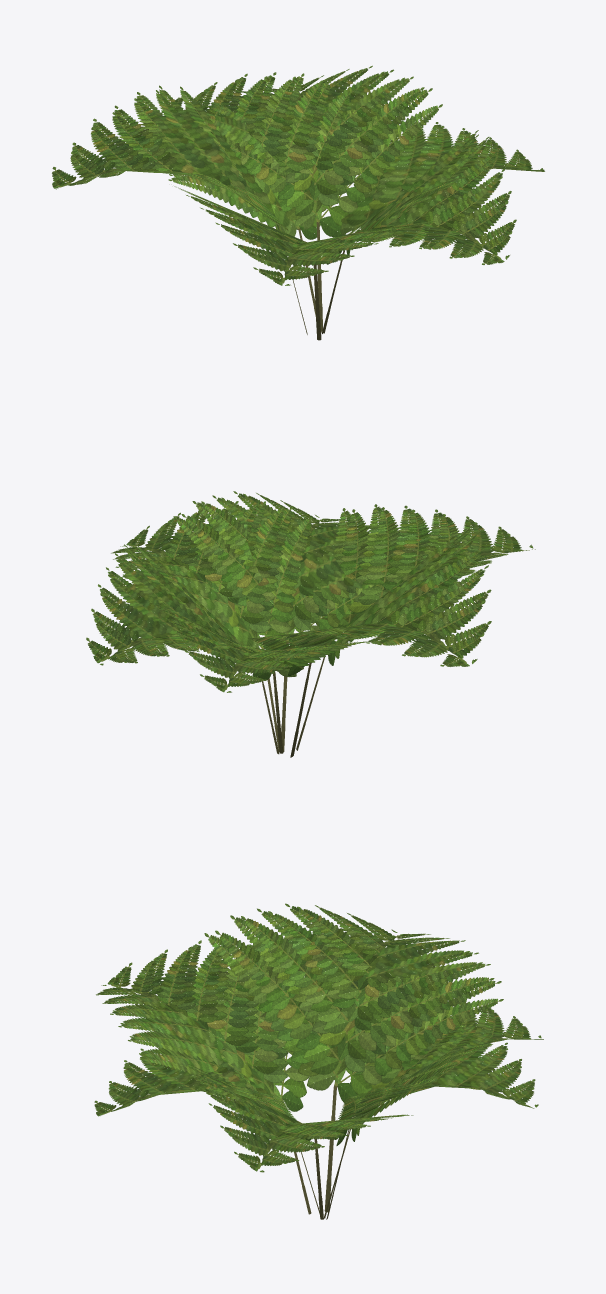
File: fern.glb
The picture shows the model from 3 angles, top to bottom: view 1: azimuth 30°, elevation 25°; view 2: azimuth 150°, elevation 25°; view 3: azimuth 270°, elevation 25°; orthographic projection.
Visible parts, largest first — view 1: fern; view 2: fern; view 3: fern.
Boxes of the visible parts, x1,y1,x2,y2 form: fern: [52, 65, 544, 340]; fern: [86, 491, 535, 757]; fern: [94, 903, 543, 1219].
Bounding box in the file's own units: 1.69 × 0.8316 × 1.71.
Materials: 1 (1 with a texture image).
